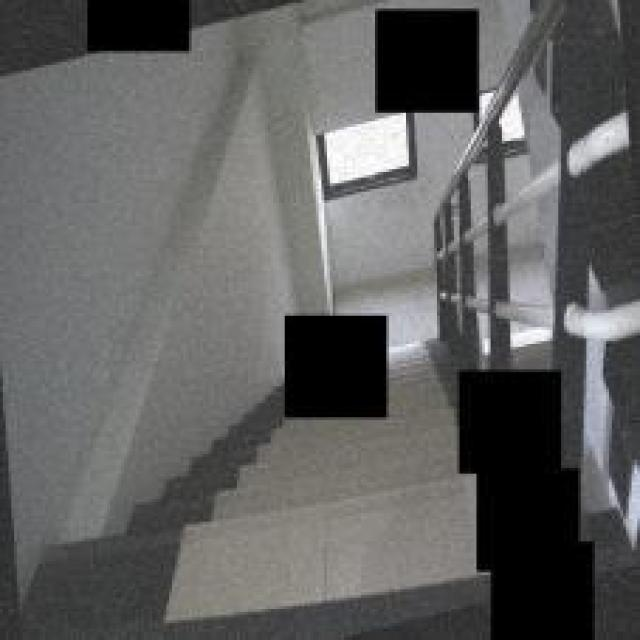downstair: (182, 441, 444, 638)
